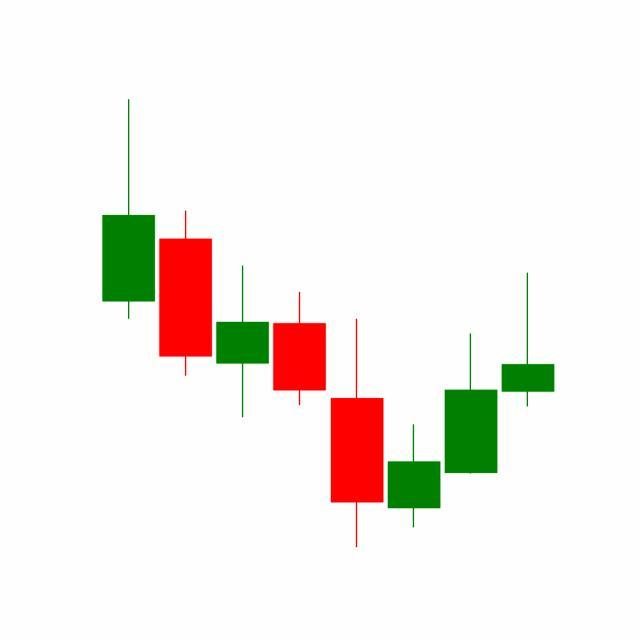Hikkake Pattern: (214, 262, 501, 549)
